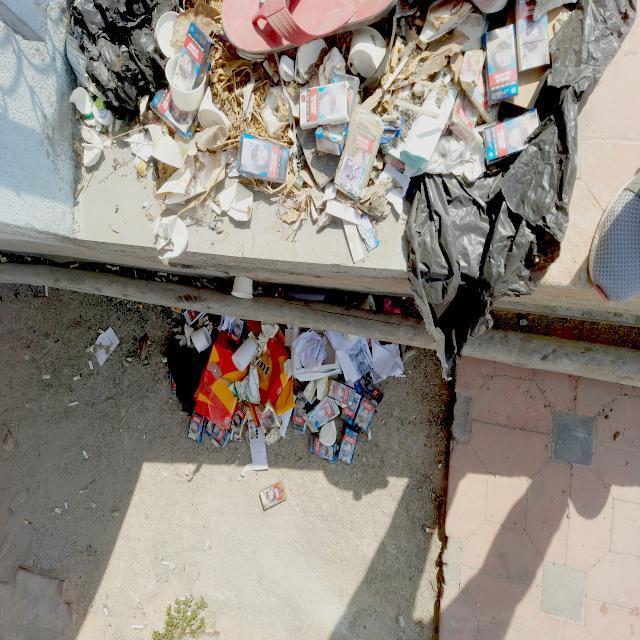Background: (0, 285, 455, 638), (0, 5, 410, 300)
Cig_bud: (382, 55, 408, 91), (410, 30, 427, 49), (390, 41, 400, 68), (443, 70, 454, 85), (129, 590, 140, 604), (383, 114, 400, 122), (413, 17, 423, 25), (199, 315, 208, 323), (82, 450, 89, 460), (183, 563, 189, 574), (398, 44, 404, 54), (205, 282, 215, 288), (74, 374, 82, 381), (426, 528, 435, 534), (204, 541, 210, 550), (207, 321, 213, 330), (115, 580, 121, 589), (88, 360, 94, 369), (158, 271, 168, 276), (109, 625, 114, 635), (103, 607, 108, 617), (78, 489, 88, 494), (155, 276, 163, 282), (160, 561, 169, 566), (208, 325, 213, 334), (69, 401, 78, 406), (55, 508, 62, 514), (217, 280, 227, 284), (85, 347, 91, 353), (90, 501, 95, 508), (98, 329, 105, 334), (43, 374, 50, 379), (23, 520, 30, 525), (64, 502, 68, 510), (204, 320, 210, 325), (197, 282, 202, 287), (127, 357, 132, 361), (213, 282, 217, 286)
Cig_pack: (335, 108, 384, 200), (482, 110, 539, 165), (172, 22, 215, 92), (484, 25, 518, 103), (238, 133, 289, 183), (516, 0, 550, 72), (150, 90, 198, 140), (340, 378, 384, 432), (300, 82, 350, 128), (449, 90, 479, 145), (304, 397, 340, 428), (255, 402, 280, 433), (358, 378, 384, 407), (309, 435, 336, 462), (260, 482, 286, 510), (231, 402, 250, 440), (354, 398, 375, 432), (338, 428, 358, 463), (205, 420, 230, 447), (329, 380, 355, 405), (341, 393, 361, 425), (228, 318, 245, 348), (189, 413, 204, 442), (385, 153, 405, 173), (292, 407, 306, 433), (184, 310, 205, 327), (329, 382, 345, 400), (356, 390, 359, 392)
Garbage: (66, 0, 635, 378), (168, 310, 404, 463), (245, 438, 268, 470), (260, 482, 286, 510)
Plastic: (221, 0, 394, 57)
Plastic_Bag: (406, 0, 636, 380), (70, 0, 179, 117), (168, 340, 210, 413)
Plastic_Straw: (392, 99, 440, 118)
Plastic_wraper: (358, 215, 379, 252), (380, 115, 404, 147)
Tetrapack: (315, 123, 349, 155), (334, 72, 359, 115)
